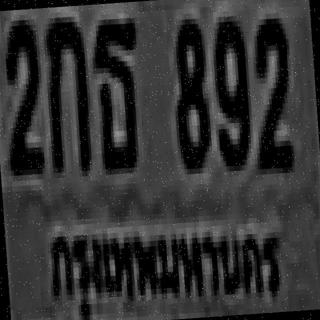A01: (41, 13, 91, 171)
A24: (90, 12, 144, 172)
N02: (248, 12, 295, 169), (1, 18, 45, 175)
N08: (169, 19, 213, 172)
N09: (208, 14, 252, 170)
P04: (36, 200, 280, 320)
